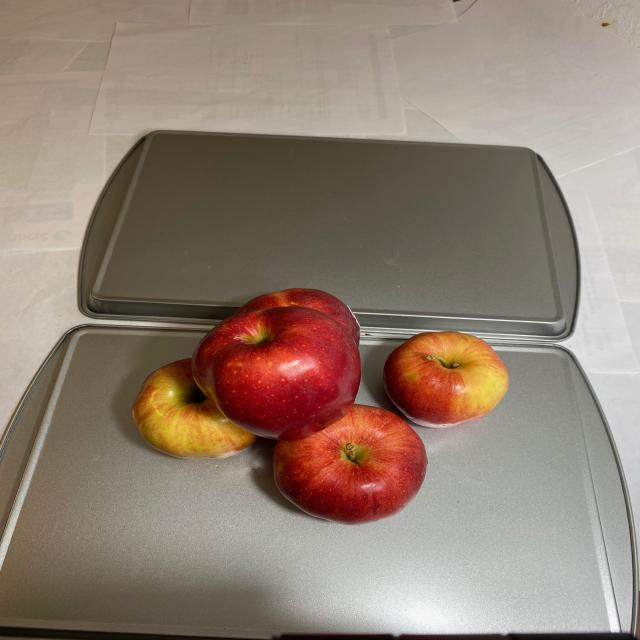Apple: (128, 287, 519, 528)
